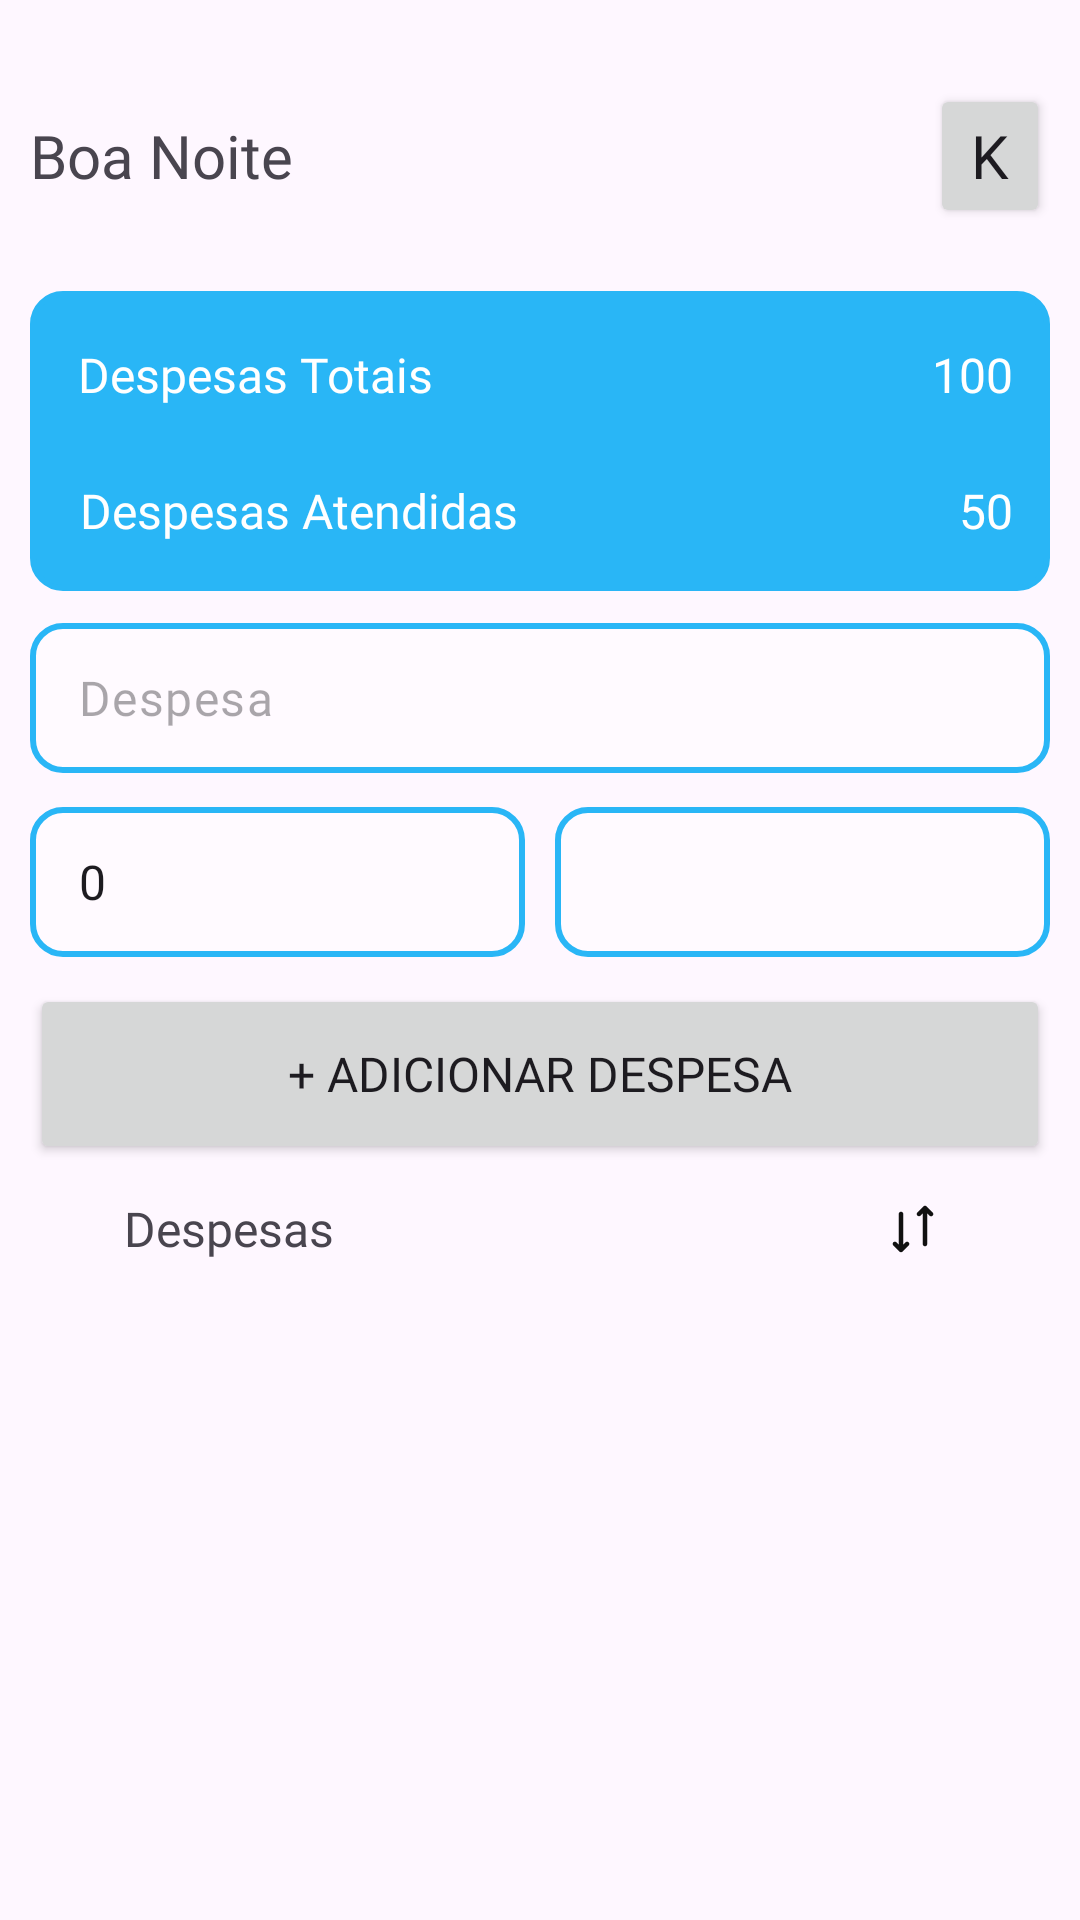

Named icons in this screenshot (1080 × 1920) and their centers, (x,y):
basil sort: (913,1229)
